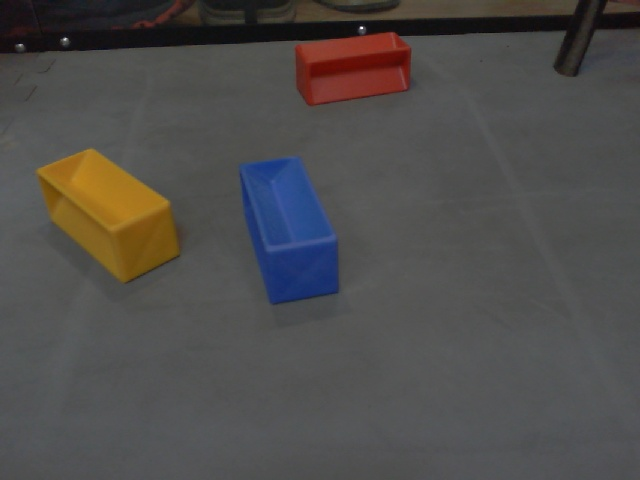BlueSample: (236, 156, 341, 305)
RedSample: (293, 31, 413, 106)
YellowSample: (34, 145, 185, 287)
